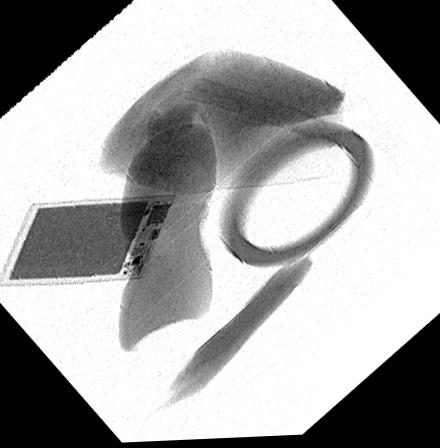Powerbank: (0, 194, 178, 284)
